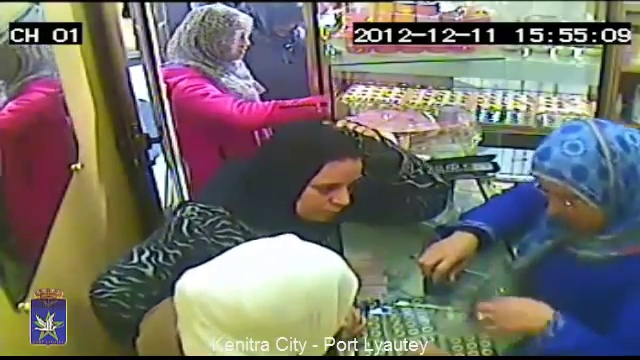face: (290, 158, 361, 222), (546, 161, 608, 230)
